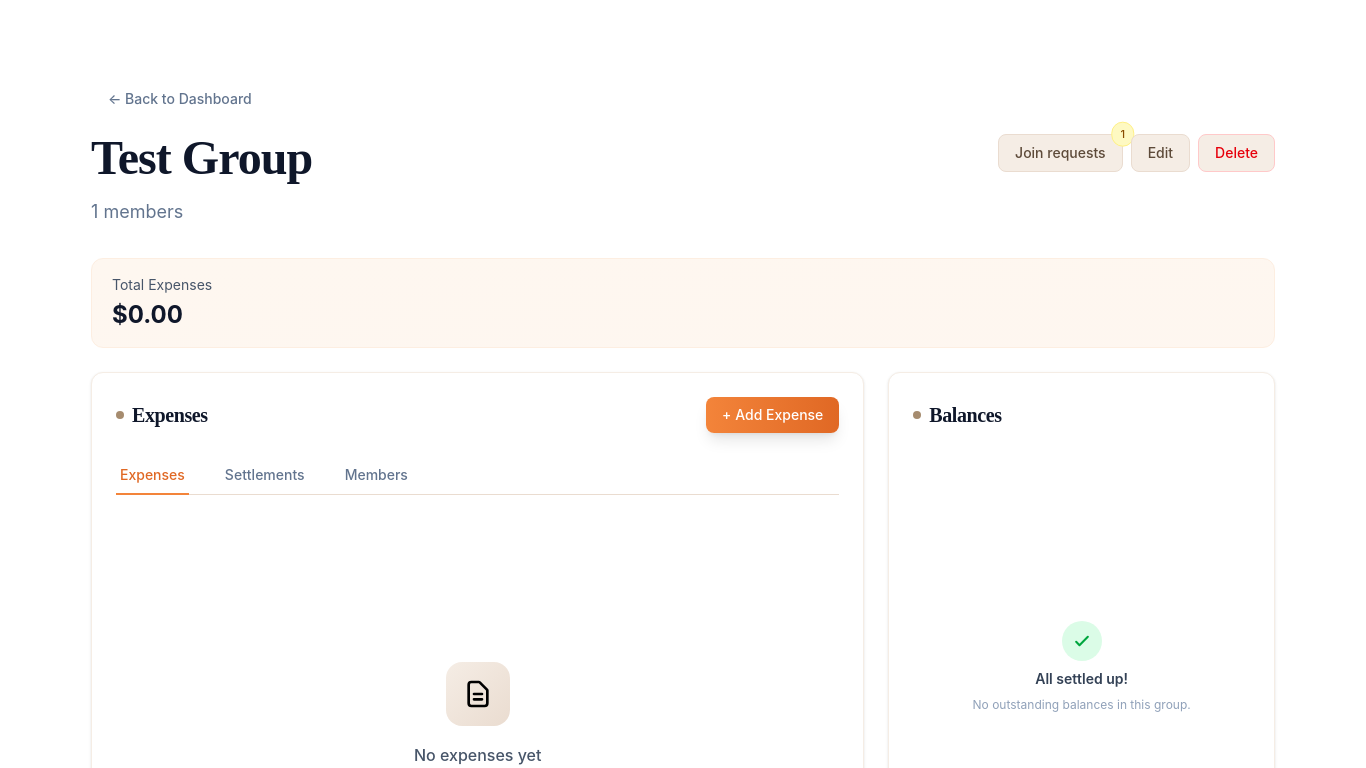
it: GroupDetailPage › Successful Group Display › renders member list with avatars
Click the tab "Members" at (376, 476), box left=341, top=457, right=412, bottom=495
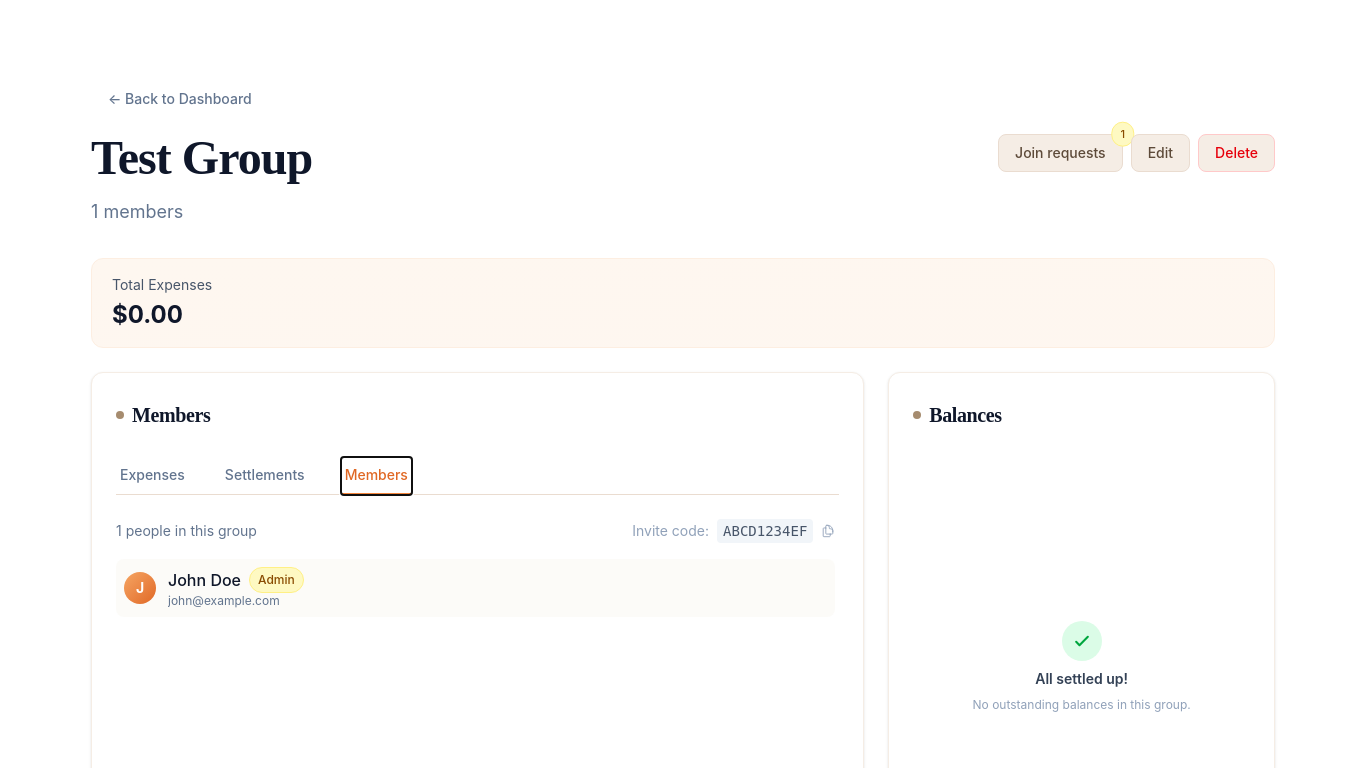
Result: the text "John Doe" is shown at left=168, top=567, right=241, bottom=593
Result: the text "john@example.com" is shown at left=168, top=593, right=280, bottom=608
